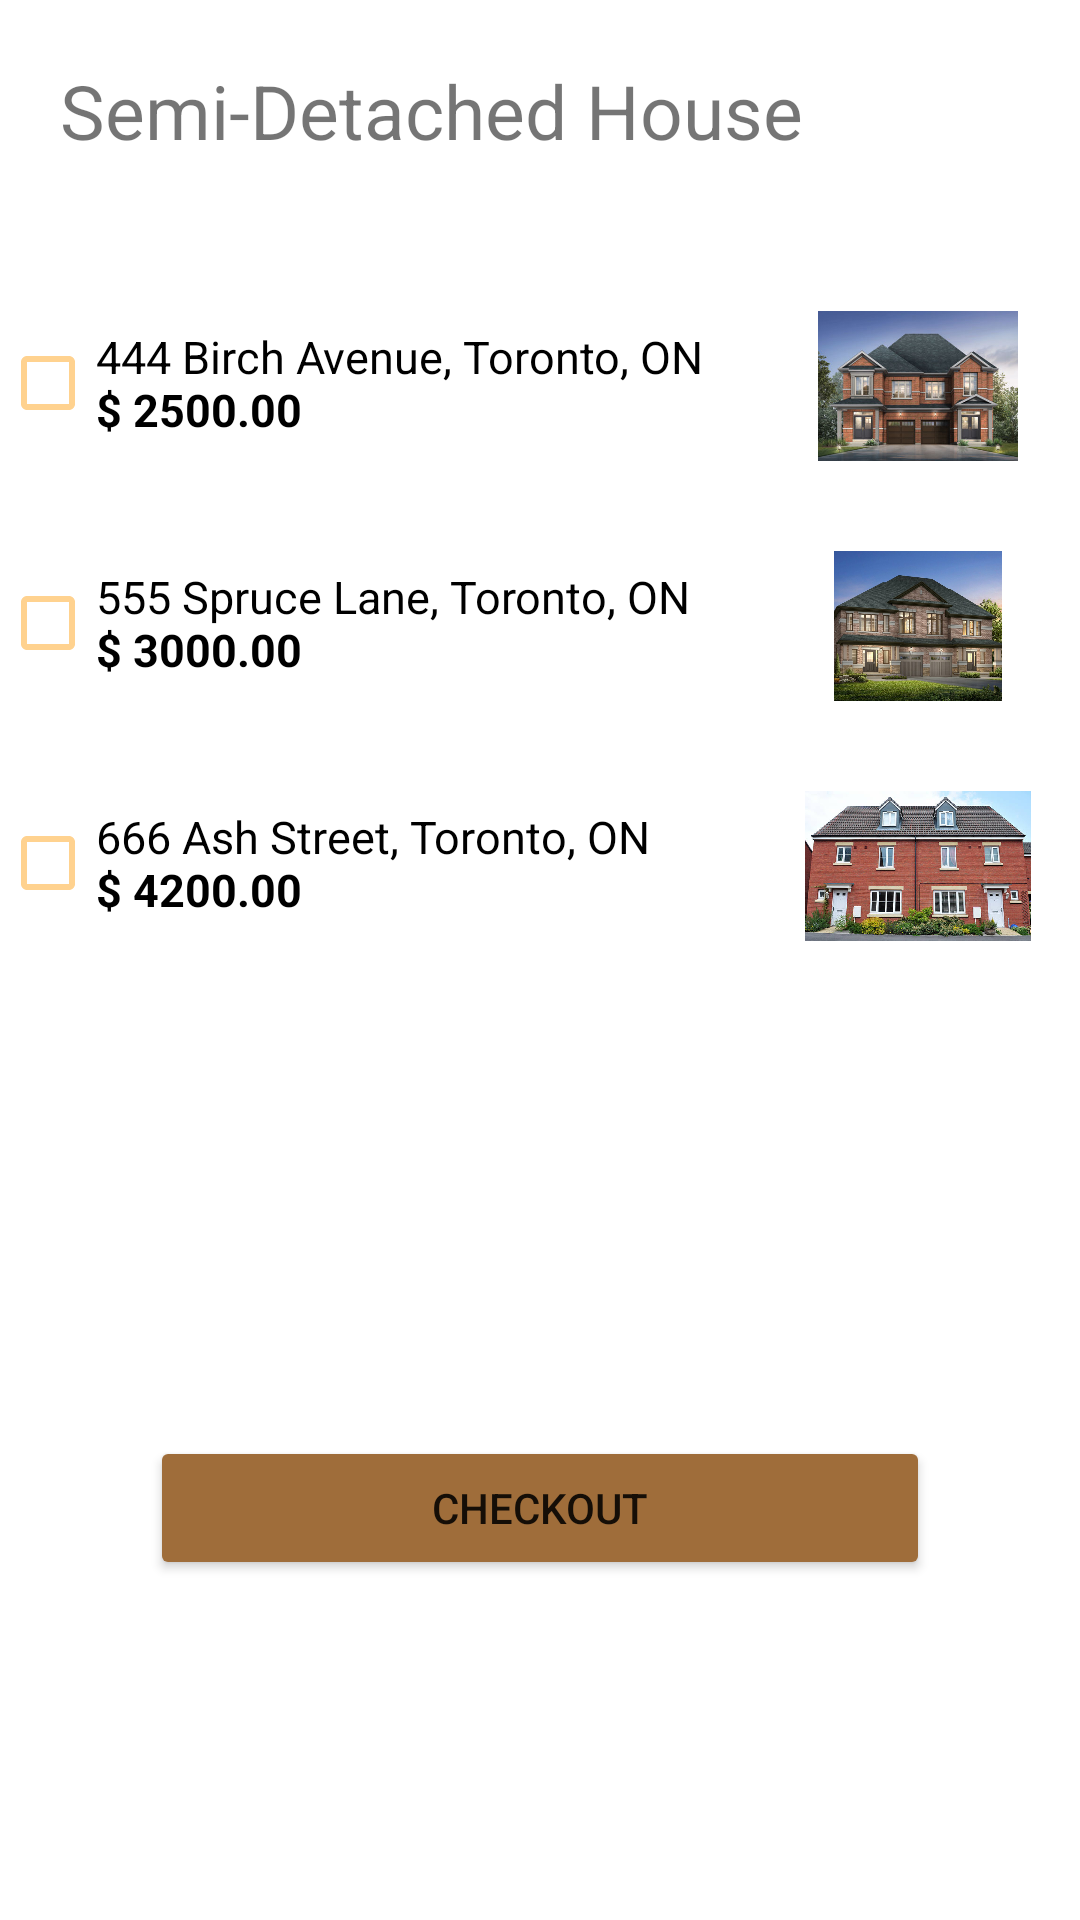

Where to tap for icons on this 1080px×1920px app screen, as (x,y):
semi detached house three: (918,866)
semi detached house two: (918,626)
